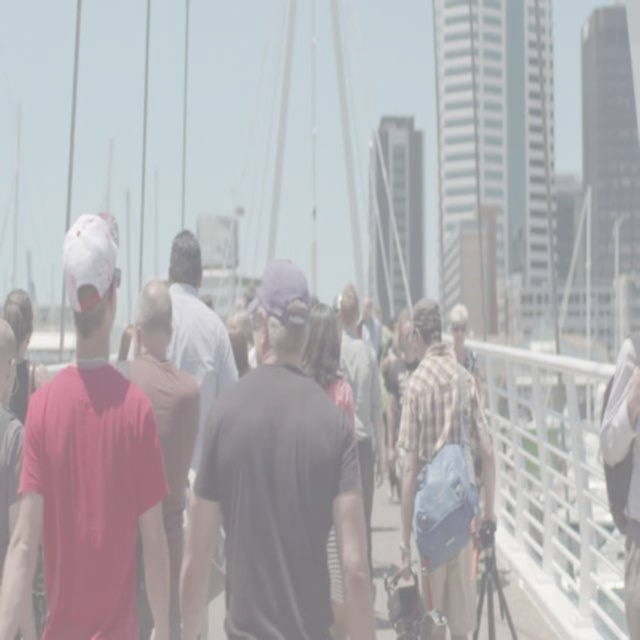pessoa: (177, 258, 378, 638), (0, 212, 171, 639), (394, 291, 500, 638), (105, 277, 201, 636), (127, 227, 241, 472), (301, 300, 364, 639), (1, 285, 52, 639), (596, 245, 640, 639), (338, 280, 386, 611), (384, 305, 422, 523), (446, 299, 488, 442), (218, 280, 276, 372), (559, 378, 607, 430), (361, 293, 384, 359), (378, 306, 400, 366), (115, 322, 134, 360), (331, 290, 342, 322)
